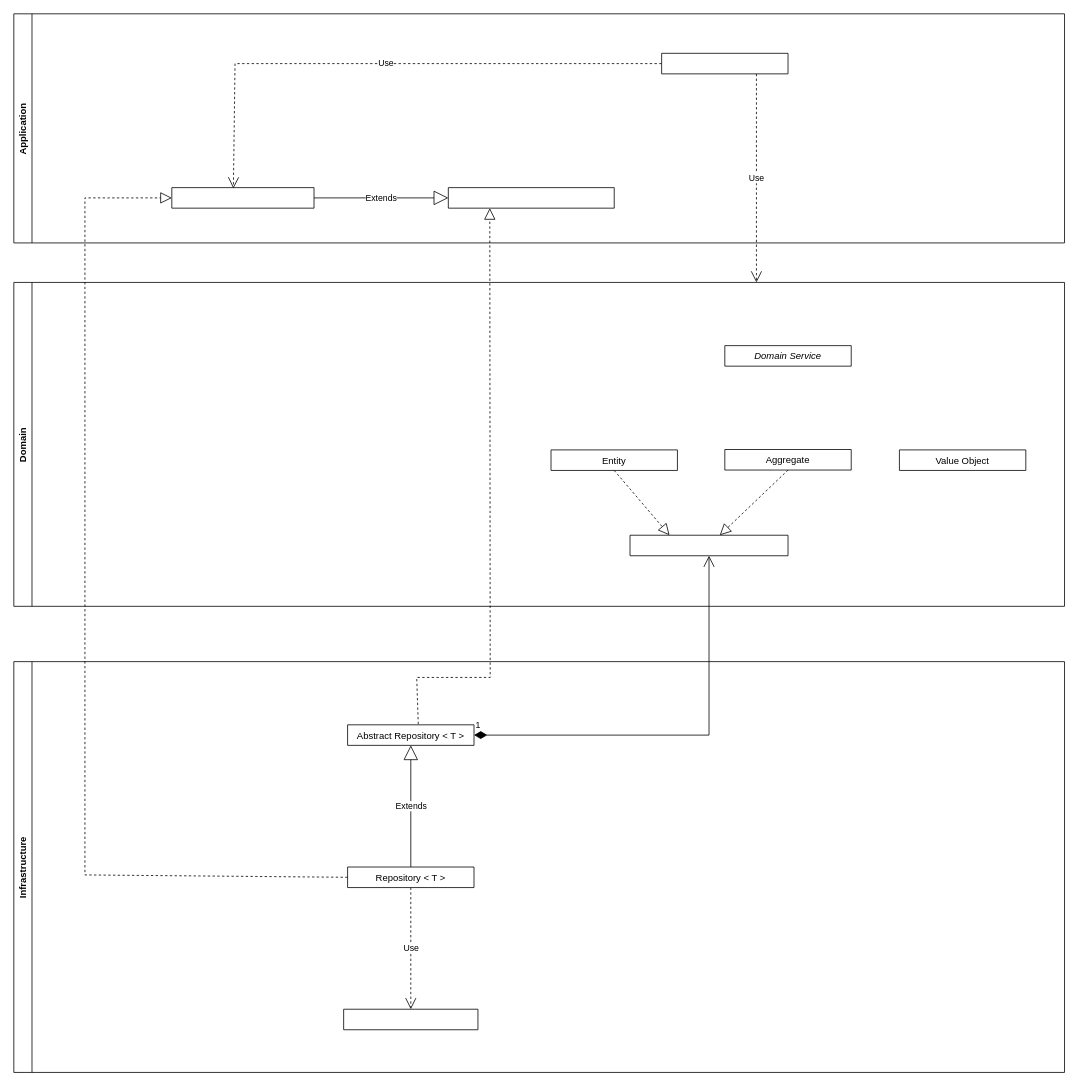
Some shapes in this 1078 by 1086 pixel diagram are drawn without their labels. The shapes that lost their labels are listed below. From the top down, each one's centre as x and y in pixels, then its label:
At (724,63): "Application Service".
At (242,197): "Repository Interface".
At (531,197): "Abstract Repository Interface".
At (708,545): "Object".
At (410,1019): "Factory".
